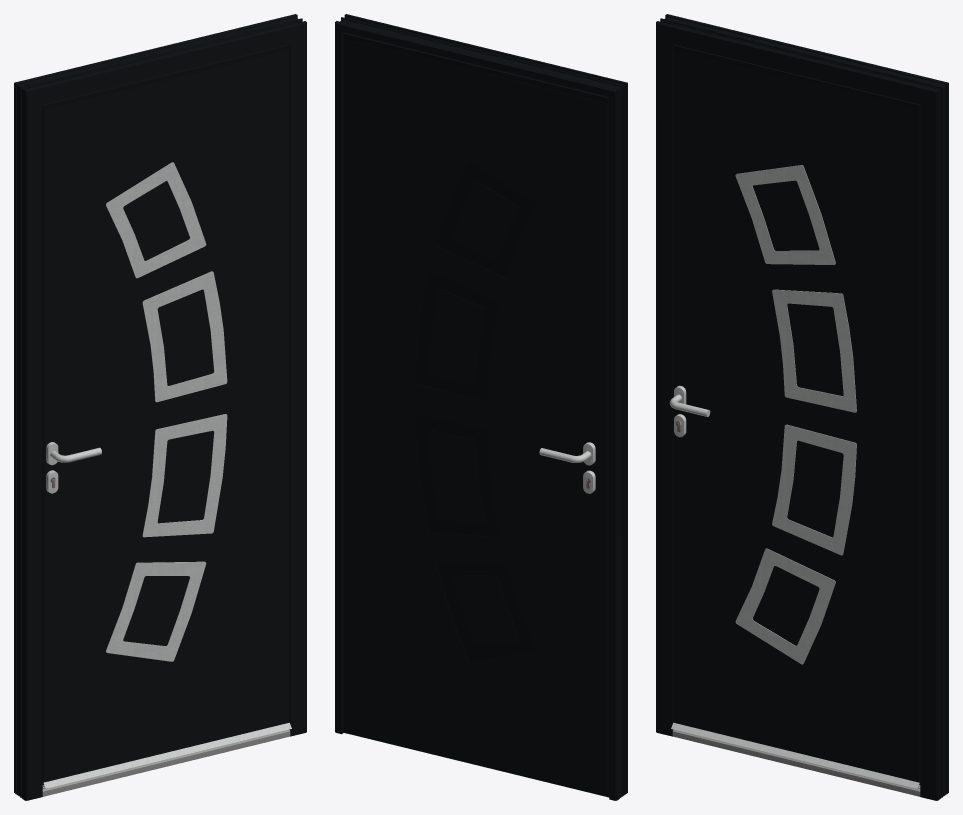
3 renders of one model, left to right at view 1: azimuth 30°, elevation 25°; view 2: azimuth 150°, elevation 25°; view 3: azimuth 330°, elevation 25°, orthographic.
Parts seen in each view (by area): view 1: bloco_27, aroFixo, alunox_17, aroMovel, monobloco, rodapé, escovas, puxador001; view 2: bloco_27, aroFixo, monobloco, aroMovel, puxador; view 3: bloco_27, aroFixo, alunox_17, aroMovel, rodapé, monobloco, escovas, puxador001.
Boxes of the visible parts, x1,y1,x2,y2 form: bloco_27: (44, 50, 288, 782); aroFixo: (14, 14, 306, 800); alunox_17: (106, 162, 227, 661); aroMovel: (42, 44, 289, 784); monobloco: (44, 46, 288, 781); rodapé: (42, 729, 290, 796); escovas: (42, 722, 291, 788); puxador001: (46, 442, 101, 493); bloco_27: (343, 39, 606, 795); aroFixo: (335, 14, 627, 800); monobloco: (344, 34, 607, 796); aroMovel: (343, 32, 609, 796); puxador: (539, 442, 595, 493); bloco_27: (674, 50, 918, 782); aroFixo: (656, 14, 948, 800); alunox_17: (735, 165, 856, 664); aroMovel: (673, 44, 920, 784); rodapé: (672, 729, 920, 796); monobloco: (674, 46, 918, 722); escovas: (671, 722, 920, 788); puxador001: (669, 385, 710, 437).
Size of the model in its own units: 900 by 2165 by 209.
Materials: 7 (2 with a texture image).
